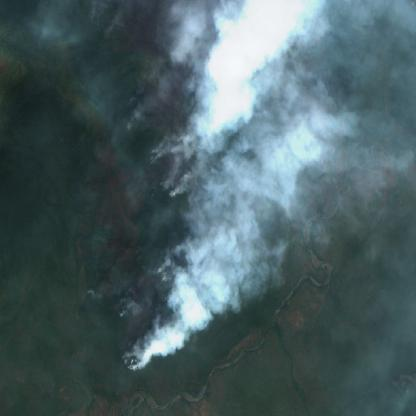fire: (141, 40, 232, 209), (116, 264, 183, 374)
